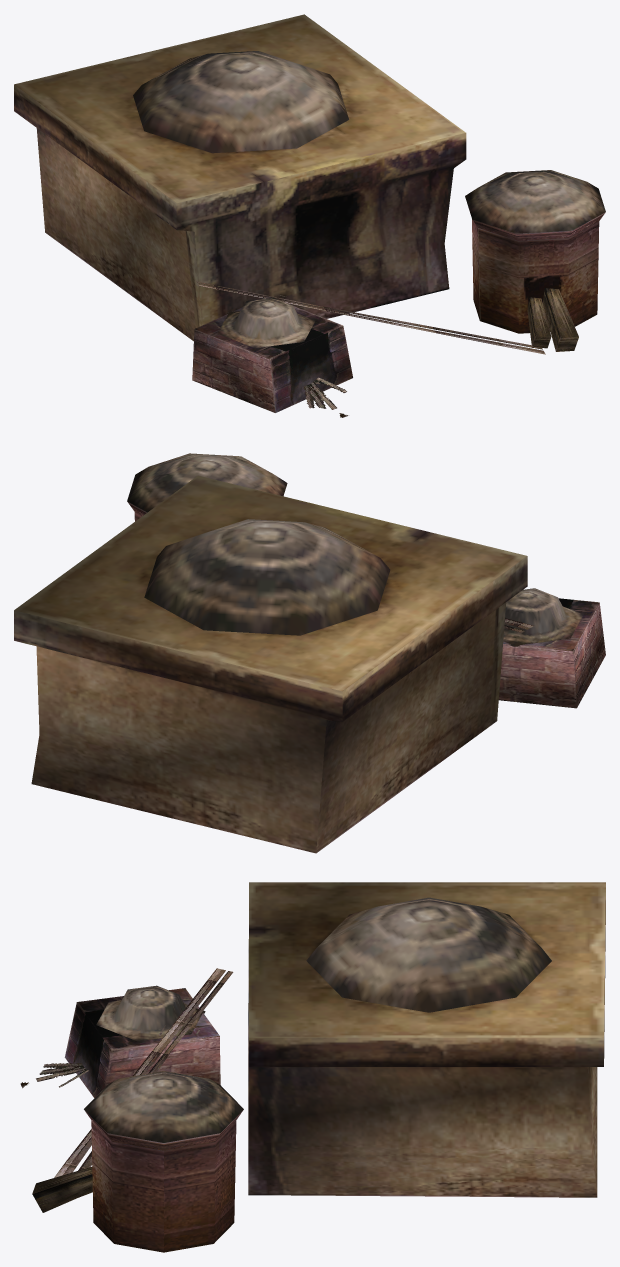
File: cj_brazier_etc01.glb
3 views of the same model, one above another, from view 1: azimuth 30°, elevation 25°; view 2: azimuth 150°, elevation 25°; view 3: azimuth 270°, elevation 25° (orthographic). The views are drawn at different scales.
Visible parts, largest first — view 1: CJ_brazier_etc01, CJ_brazier_etcalpha; view 2: CJ_brazier_etc01; view 3: CJ_brazier_etc01, CJ_brazier_etcalpha.
Part boxes in pixels (x1,y1,x2,y2): CJ_brazier_etc01: (14, 14, 605, 412); CJ_brazier_etcalpha: (196, 281, 545, 417); CJ_brazier_etc01: (14, 453, 605, 853); CJ_brazier_etc01: (32, 882, 605, 1252); CJ_brazier_etcalpha: (20, 968, 233, 1177).
Size of the model in its own units: 3.38 by 1.6 by 3.98.
Materials: 2 (2 with a texture image).
